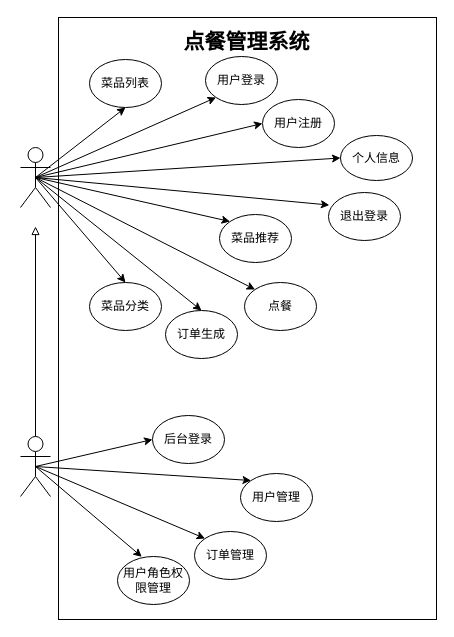
Some shapes in this 454 by 637 pixel diagram are drawn without their labels. Here are the shapes that lost their labels. From the top down, the box of each, then its label:
(20, 146, 50, 208): 消费者
(20, 436, 50, 496): 管理者
